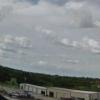Tree: (3, 64, 16, 85)
